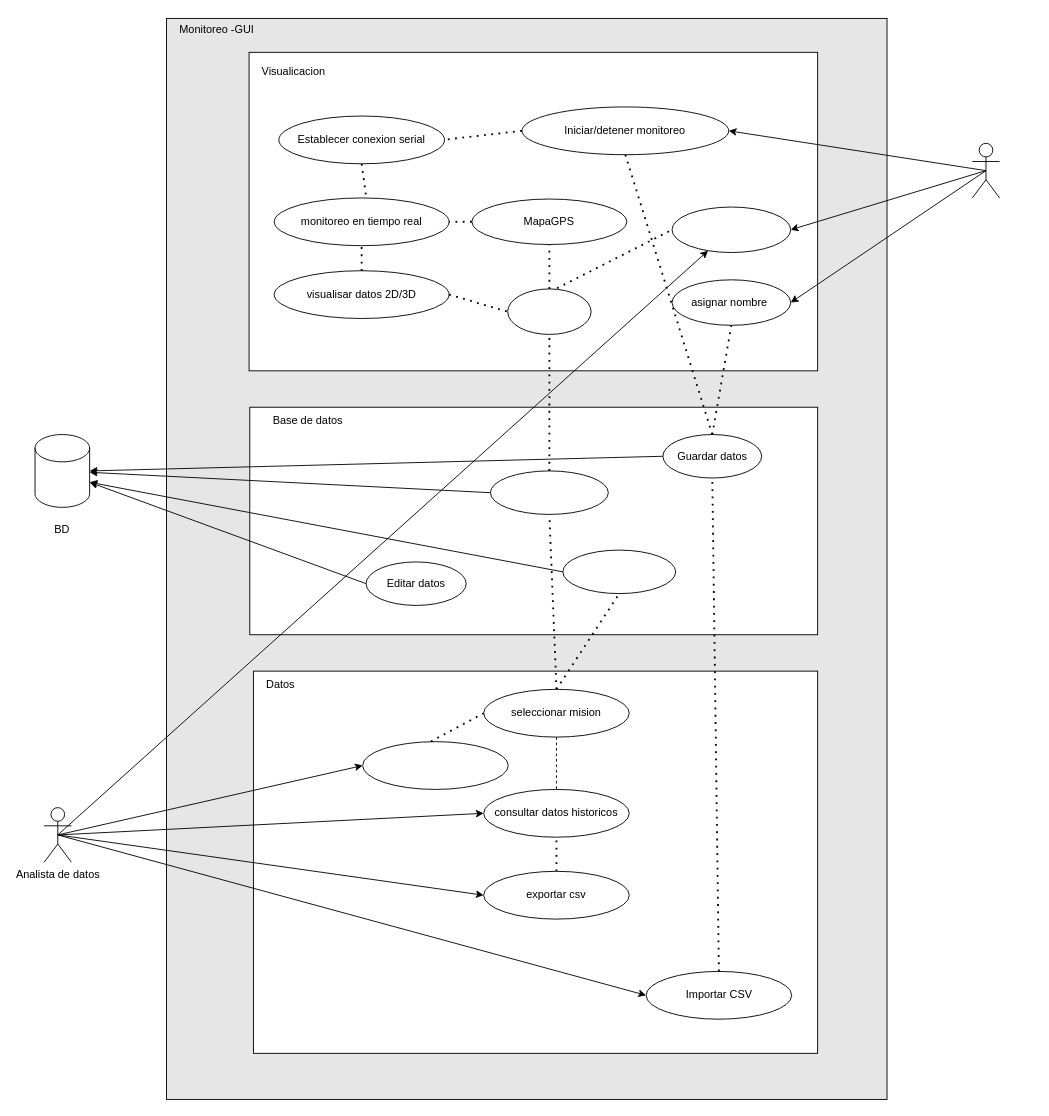
The diagram is 1049 pixels wide and 1116 high, and some of its shapes have lost their labels. The centre of each missing label's shape, as x and y in pixels:
"Borrar datos" goes at [619,571].
"borrar historico de vuelo" goes at [435,765].
"Operador de Misión" goes at [985,170].
"Recuperar datos" goes at [548,492].
"Reinterpretacion" goes at [731,229].
"Simulacion" goes at [549,311].
